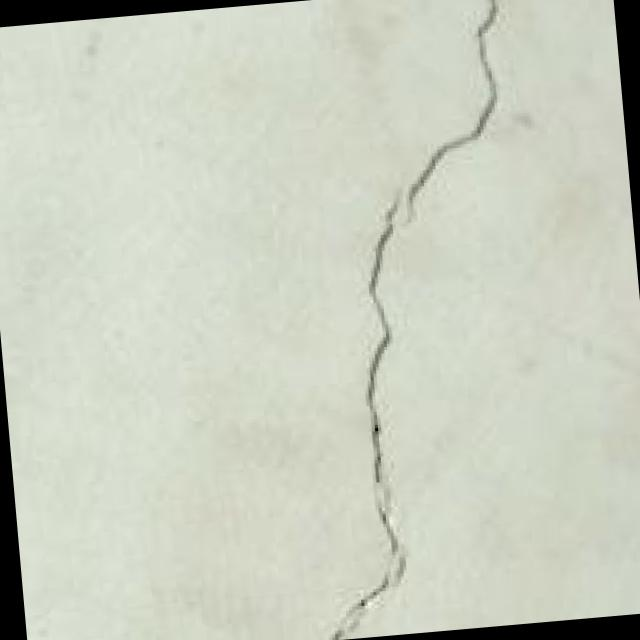crack: (254, 0, 596, 639)
